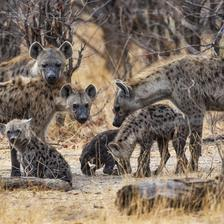hyena: (112, 56, 224, 177), (2, 117, 81, 199), (4, 74, 104, 137), (0, 27, 98, 90), (87, 131, 170, 193)
